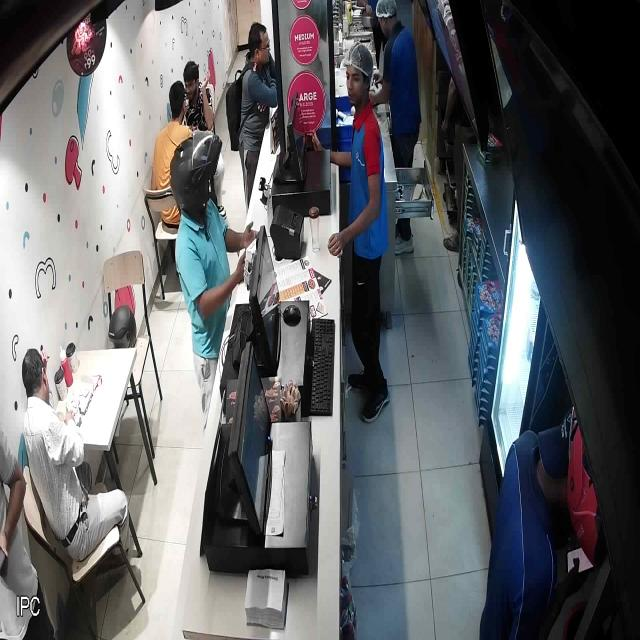helmet: (169, 131, 222, 216)
